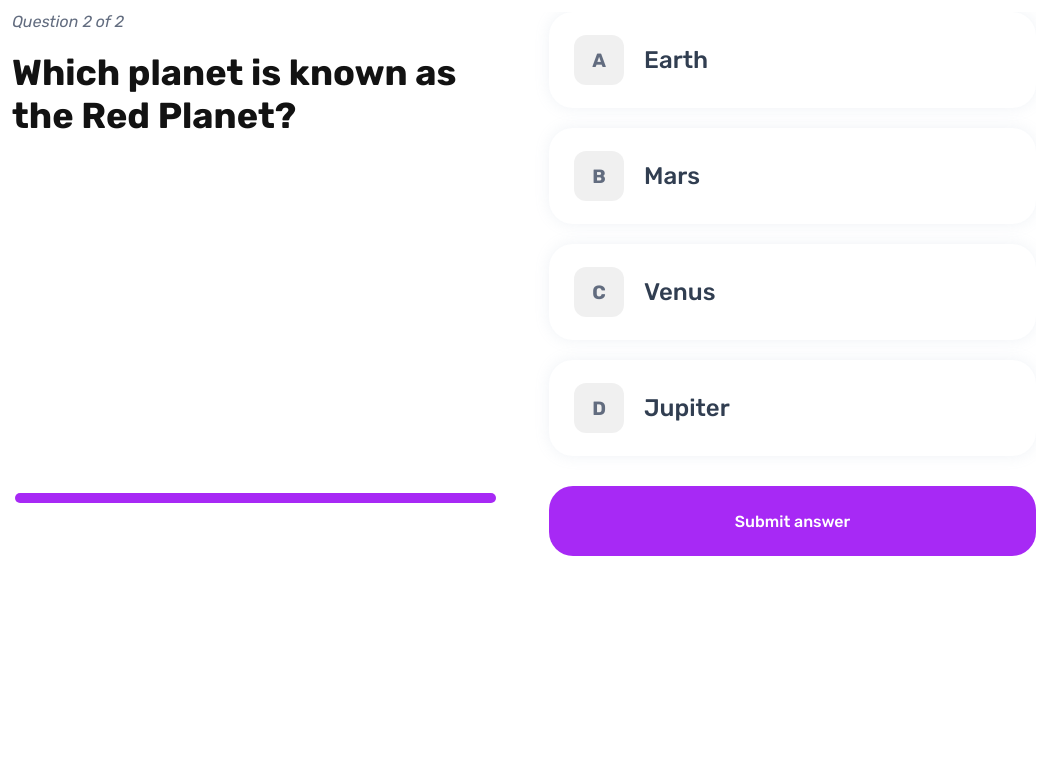
Scenario: Quiz component › should display "Please select an answer" when the submit button is clicked with no answer selected
Click the button "Submit answer".
click(792, 521)  # box [549,486,1036,556]
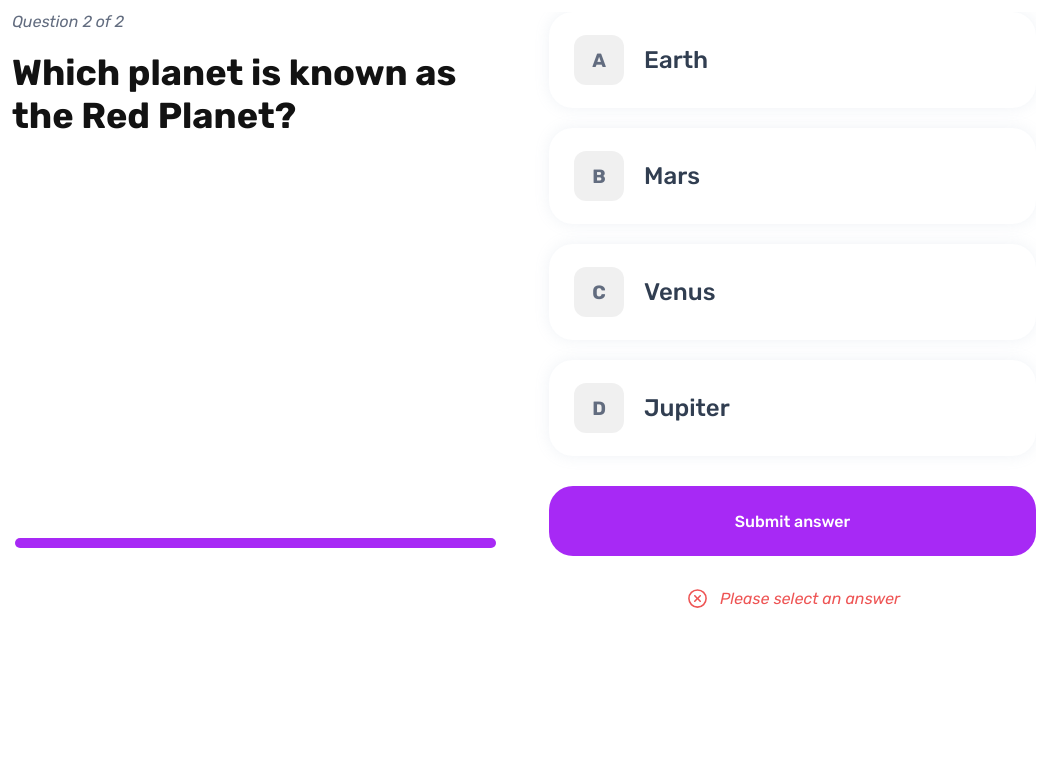
Check: the text "Please select an answer" is shown, box [685,586,900,611]
